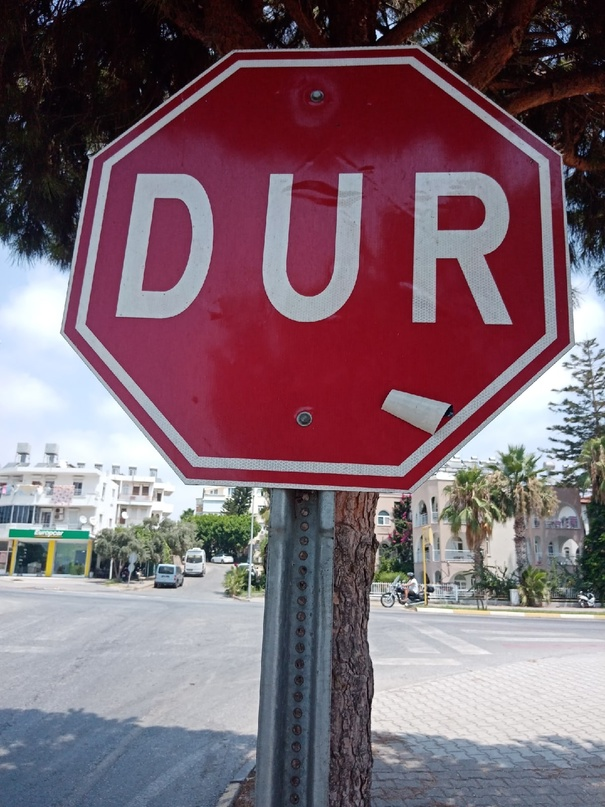dur: (63, 45, 572, 492)
